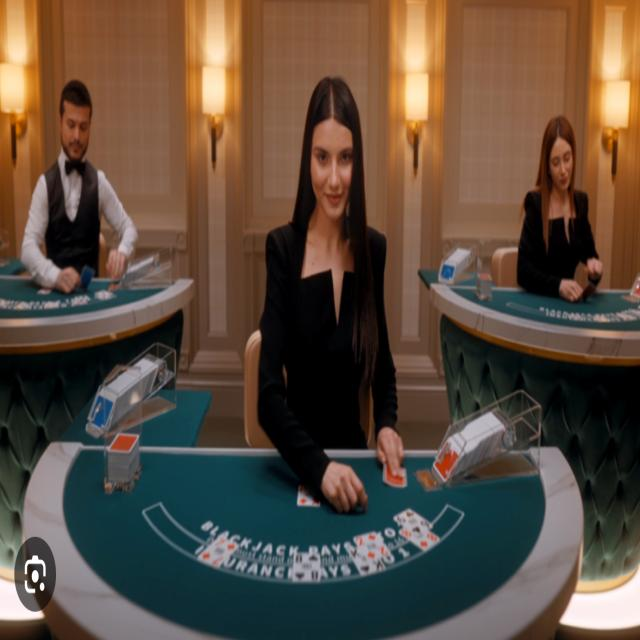Card-2: (354, 530, 391, 559)
Card-6: (394, 507, 432, 535)
Card-7: (197, 533, 238, 569)
Card-8: (398, 528, 440, 552), (292, 550, 320, 581)
Card-K: (348, 544, 385, 575), (297, 483, 320, 508)
